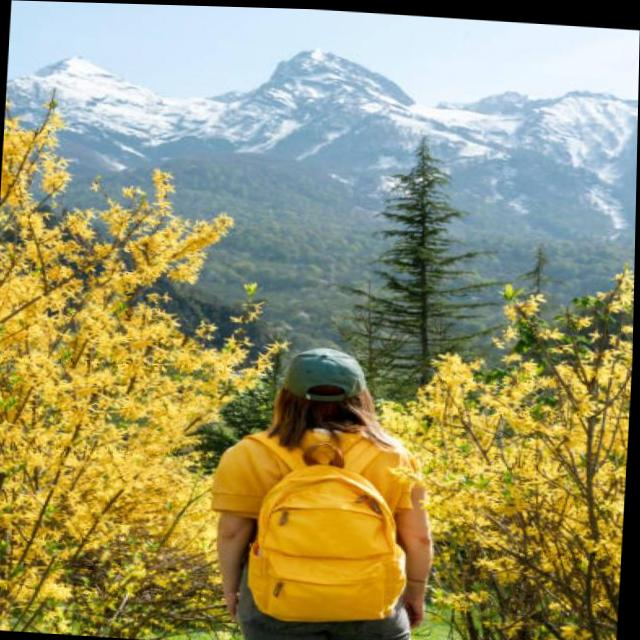no helmet: (212, 325, 428, 460)
